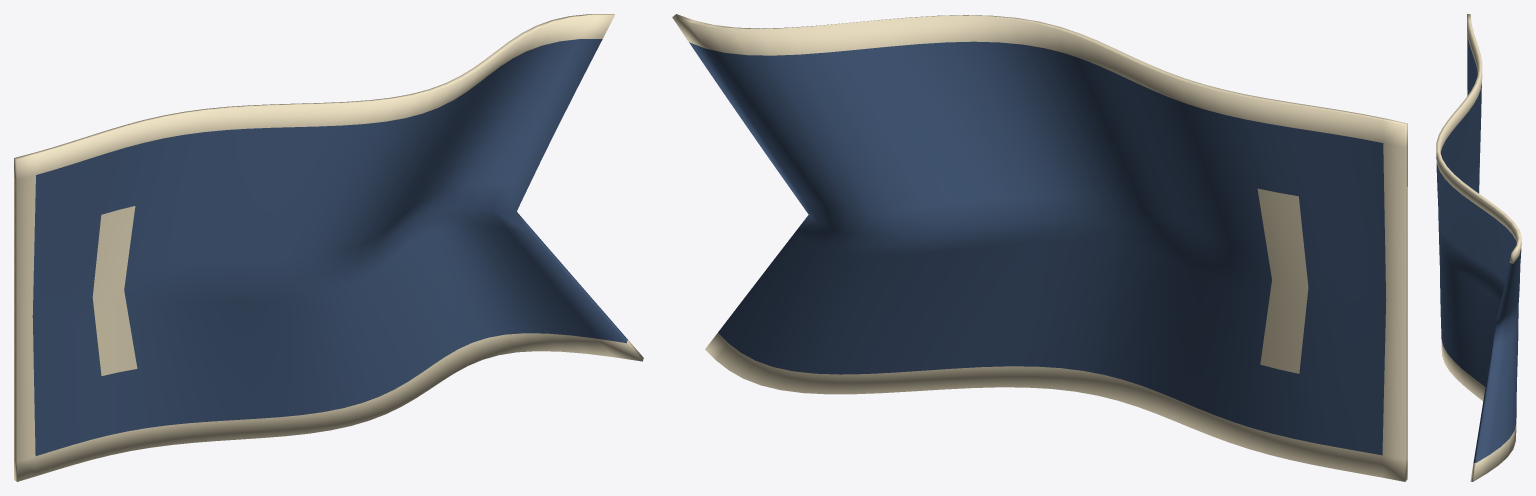
The model's file is flag-5.glb.
3 renders of one model, left to right at view 1: azimuth 30°, elevation 25°; view 2: azimuth 150°, elevation 25°; view 3: azimuth 270°, elevation 25°, orthographic. The views are drawn at different scales.
Parts seen in each view (by area): view 1: Captain standard; view 2: Captain standard; view 3: Captain standard.
Part boxes in pixels (bbox=[...]): Captain standard: bbox=[14, 14, 643, 481]; Captain standard: bbox=[672, 14, 1407, 481]; Captain standard: bbox=[1436, 14, 1521, 481].
Size of the model in its own units: 1.6 by 0.8638 by 0.2662.
